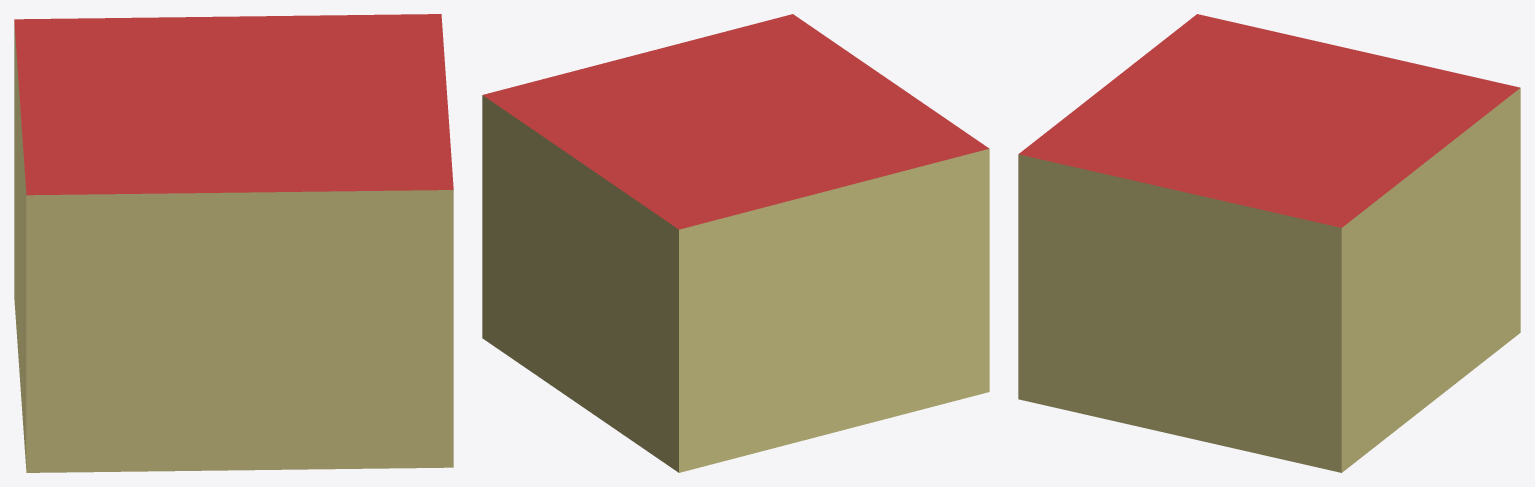
3 views of the same model, side by side, from view 1: azimuth 30°, elevation 25°; view 2: azimuth 150°, elevation 25°; view 3: azimuth 270°, elevation 25° (orthographic). The views are drawn at different scales.
Parts seen in each view (by area): view 1: group_4, group_3; view 2: group_4, group_3; view 3: group_4, group_3.
Part boxes in pixels (bbox=[...]): group_4: bbox=[14, 23, 453, 472]; group_3: bbox=[14, 14, 453, 195]; group_4: bbox=[482, 95, 989, 472]; group_3: bbox=[483, 14, 988, 229]; group_4: bbox=[1018, 88, 1520, 472]; group_3: bbox=[1018, 14, 1520, 227].
Size of the model in its own units: 16.64 by 16.52 by 8.89.
